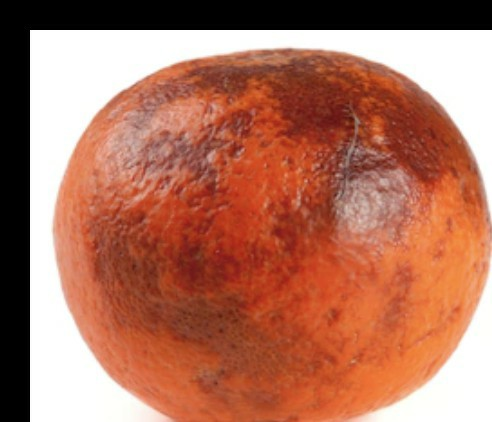rotten_orange: (53, 50, 492, 422)
